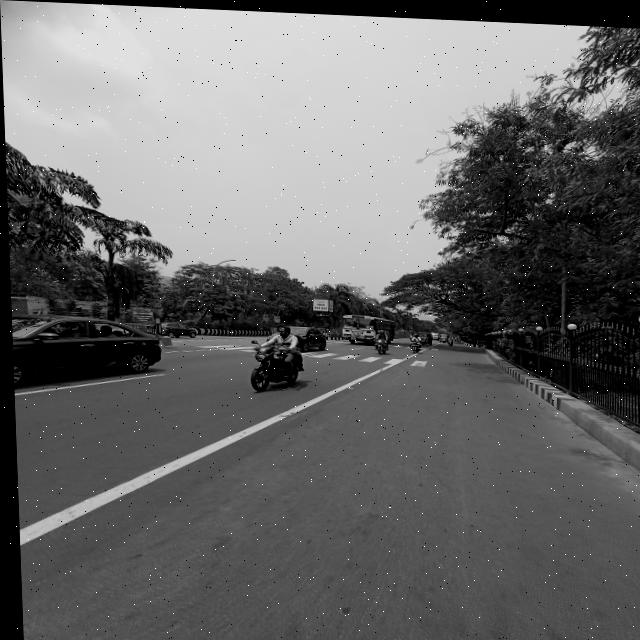bike: (243, 342, 312, 390), (261, 319, 328, 351), (368, 336, 390, 351), (406, 336, 424, 352), (445, 335, 452, 343)
bus: (336, 310, 395, 344)
car: (9, 304, 175, 384), (158, 316, 197, 337)
